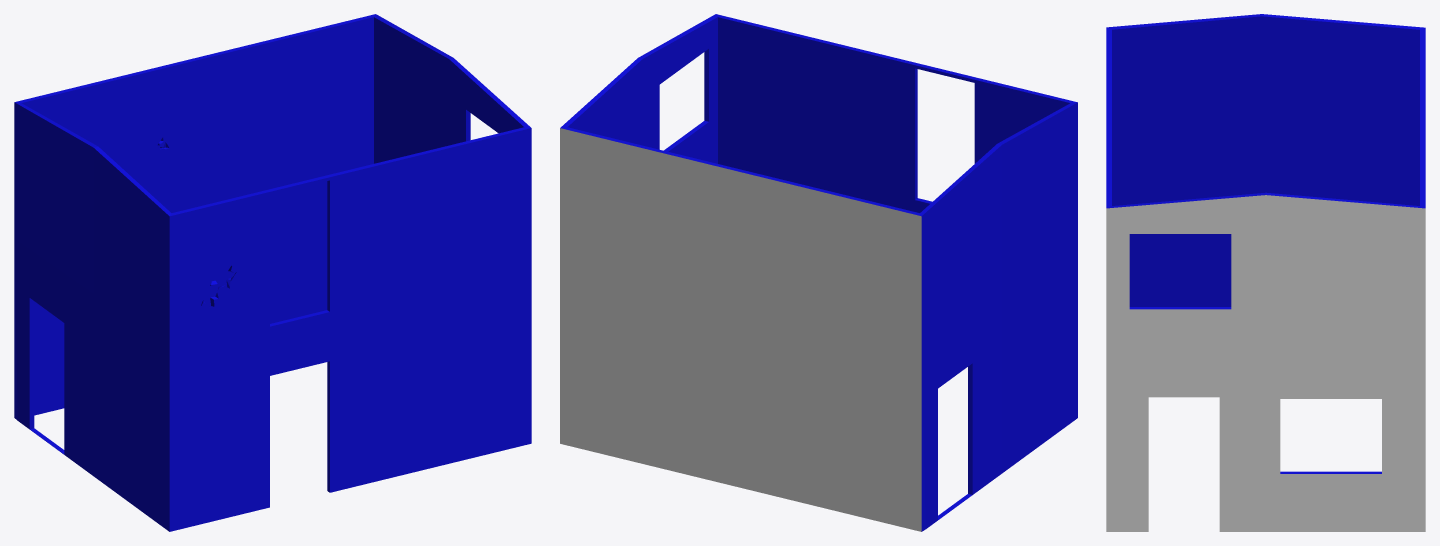
The model's file is BetterUVHallway.fbx.
3 renders of one model, left to right at view 1: azimuth 30°, elevation 25°; view 2: azimuth 150°, elevation 25°; view 3: azimuth 270°, elevation 25°, orthographic. The views are drawn at different scales.
Parts seen in each view (by area): view 1: Room.002; view 2: Room.002; view 3: Room.002.
Part boxes in pixels (x1,y1,x2,y2): Room.002: (14, 14, 531, 531); Room.002: (560, 14, 1077, 531); Room.002: (1106, 14, 1425, 531).
Size of the model in its own units: 695 by 603 by 518.
